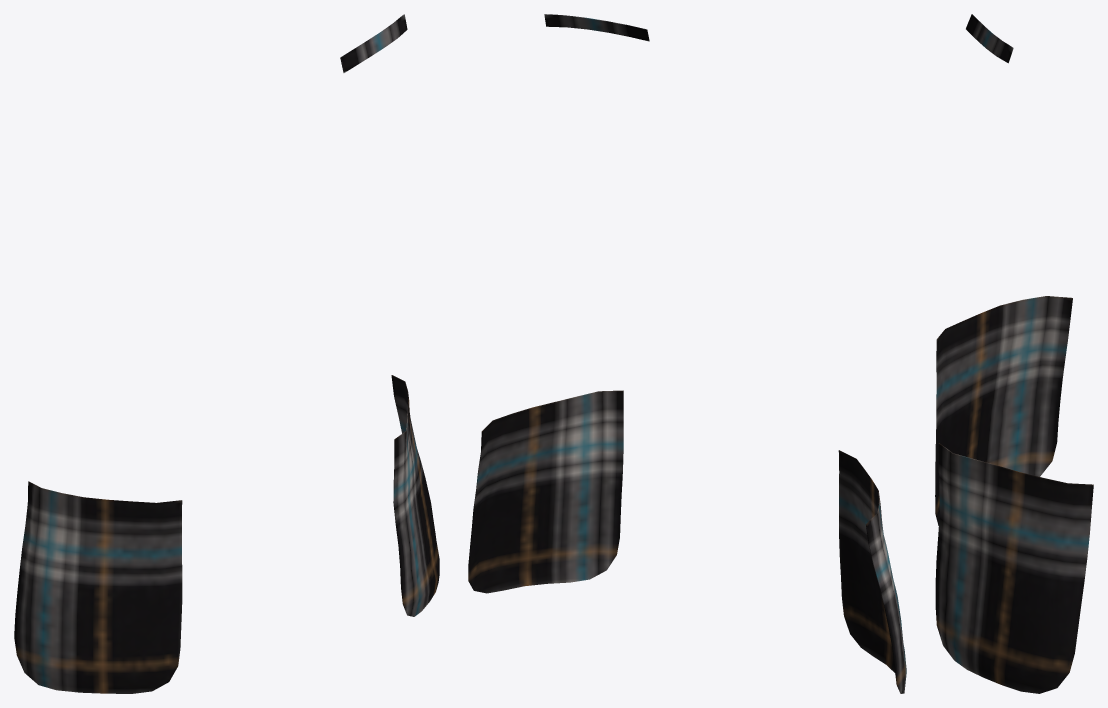
File: patchpocketdb.glb
3 renders of one model, left to right at view 1: azimuth 30°, elevation 25°; view 2: azimuth 150°, elevation 25°; view 3: azimuth 270°, elevation 25°, orthographic. The views are drawn at different scales.
Visible parts, largest first — view 1: pocket (×3); view 2: pocket (×3); view 3: pocket (×3).
Boxes of the visible parts, x1,y1,x2,y2 form: pocket (×3): [14, 14, 439, 693]; pocket (×3): [468, 14, 906, 693]; pocket (×3): [935, 14, 1093, 693].
Size of the model in its own units: 377 by 504 by 115.
3 materials, 3 textured.
